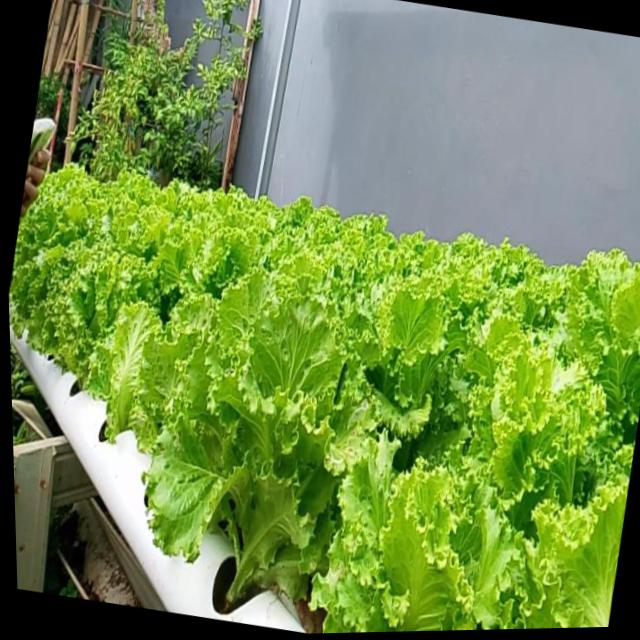Mature: (157, 287, 374, 618), (43, 248, 157, 413)
